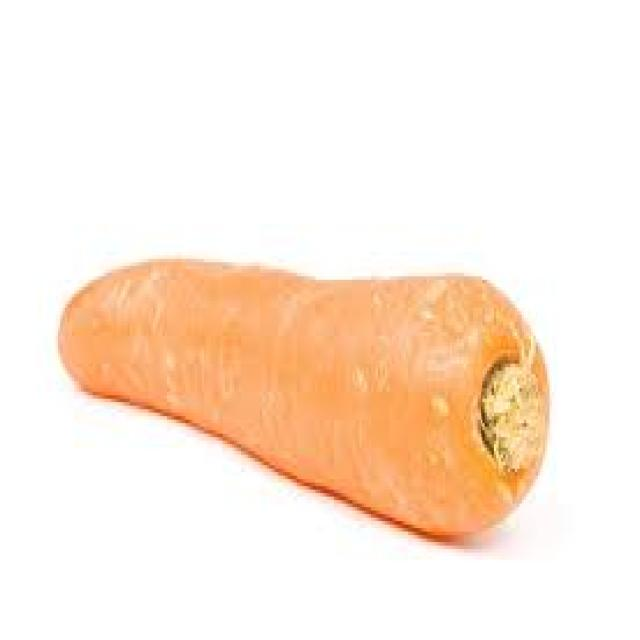carrot: (56, 252, 550, 542)
